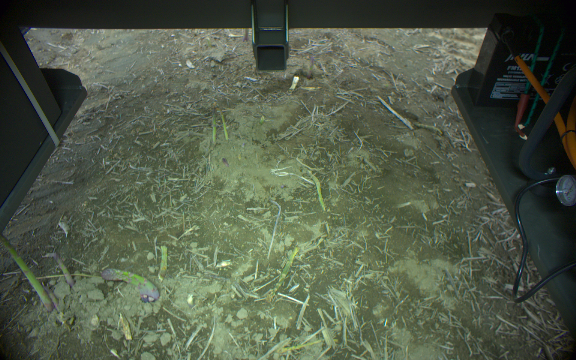aspa: (1, 236, 54, 313), (99, 268, 158, 303), (267, 246, 299, 302), (51, 248, 73, 286), (311, 173, 325, 210), (218, 107, 229, 141), (158, 245, 166, 280), (209, 107, 216, 144)
